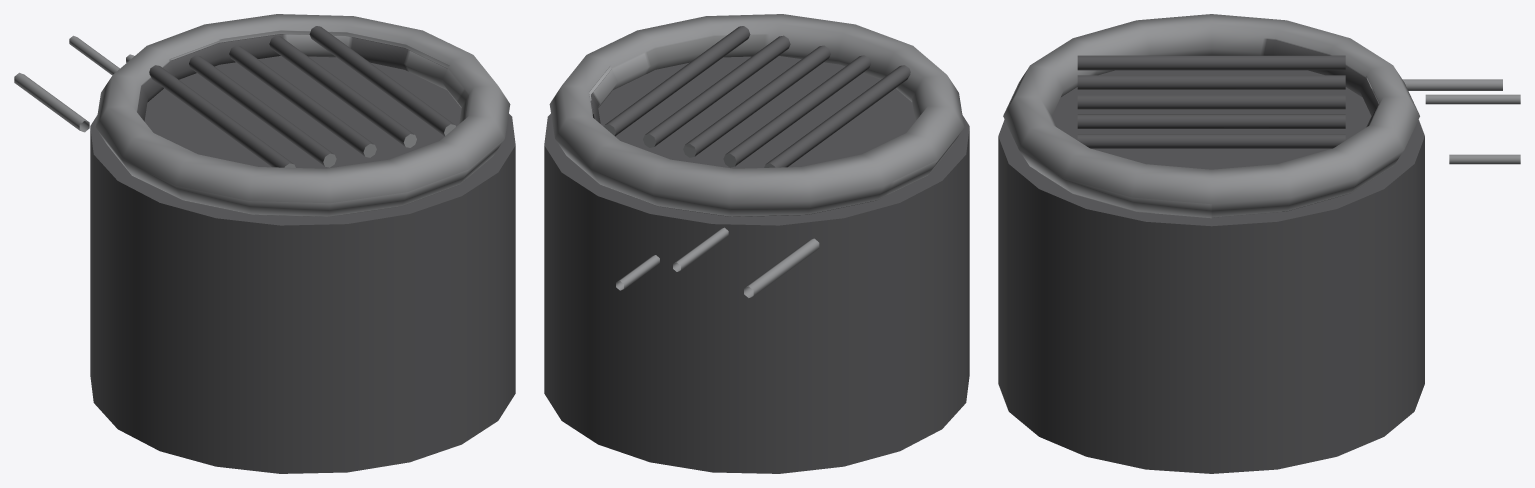
The picture shows the model from 3 angles, left to right: view 1: azimuth 30°, elevation 25°; view 2: azimuth 150°, elevation 25°; view 3: azimuth 270°, elevation 25°; orthographic projection.
Size of the model in its own units: 0.718 by 0.536 by 0.879.
